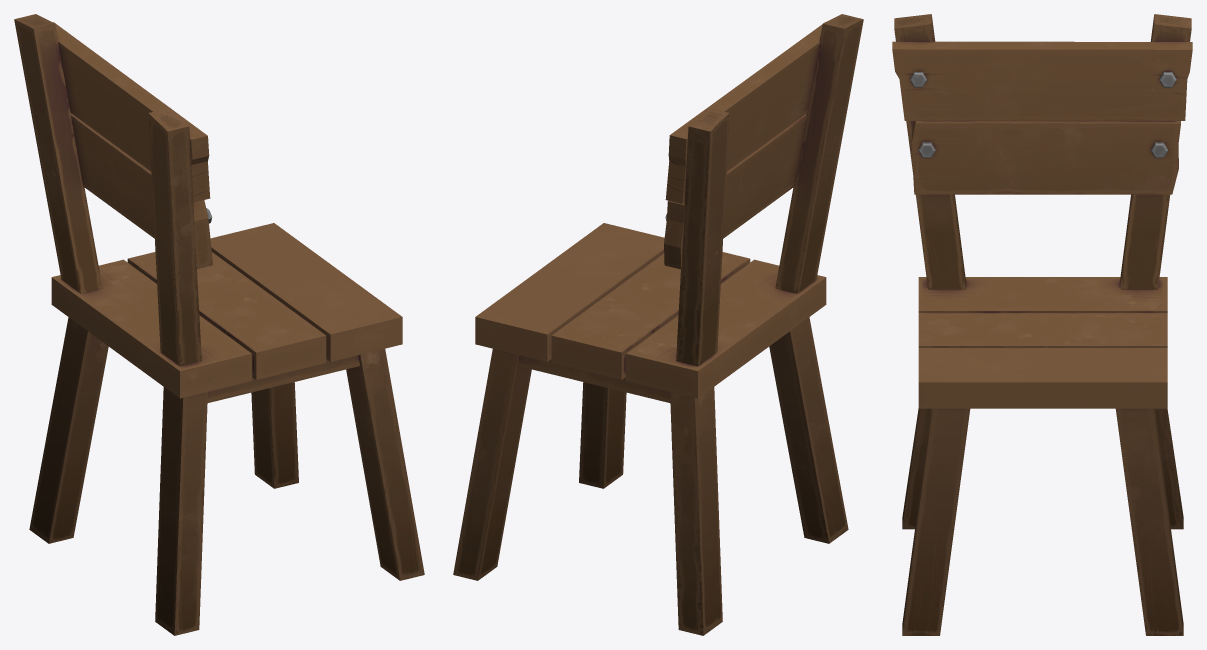
File: Chair1.fbx
The picture shows the model from 3 angles, left to right: view 1: azimuth 30°, elevation 25°; view 2: azimuth 150°, elevation 25°; view 3: azimuth 270°, elevation 25°; orthographic projection. The views are drawn at different scales.
Visible parts, largest first — view 1: Chair_low; view 2: Chair_low; view 3: Chair_low.
Boxes of the visible parts, <box> form: Chair_low: <box>14,14,424,635</box>; Chair_low: <box>453,14,863,635</box>; Chair_low: <box>892,14,1192,635</box>.
Bounding box in the file's own units: 98.34 × 185 × 101.
